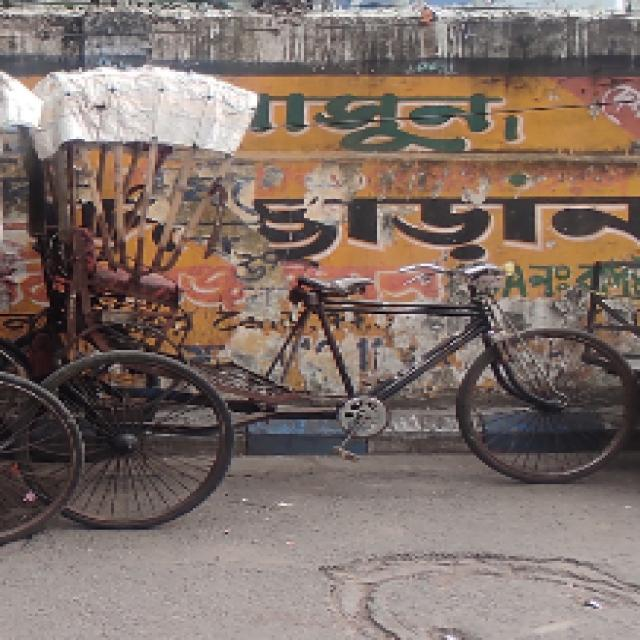rickshaw: (3, 58, 640, 556)
